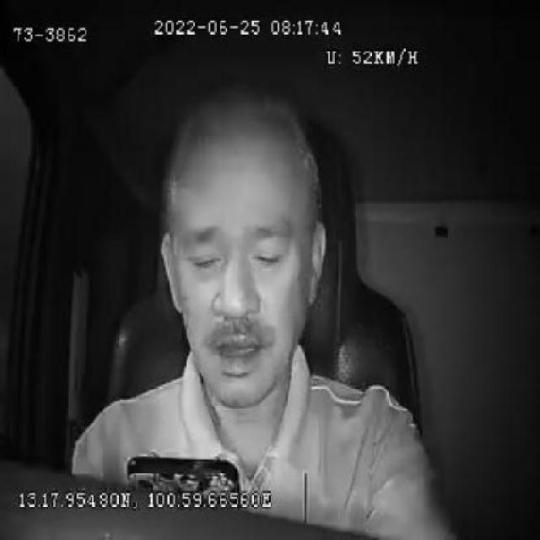phone: (127, 450, 242, 490)
